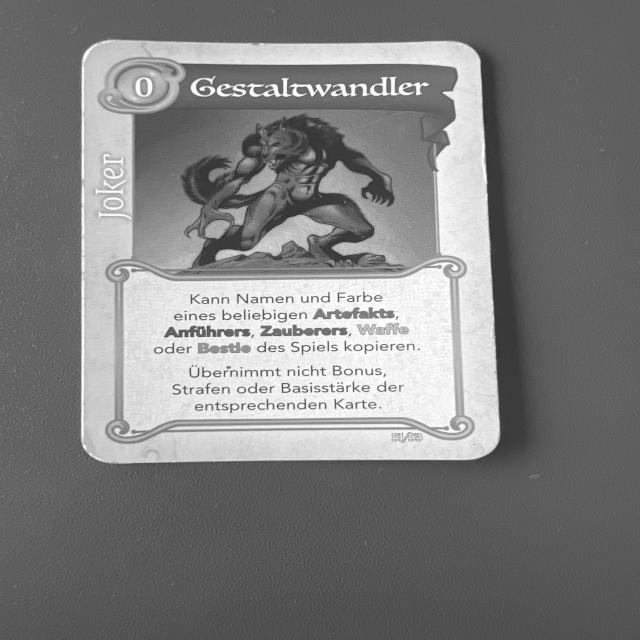Shapeshifter: (72, 37, 506, 475)
